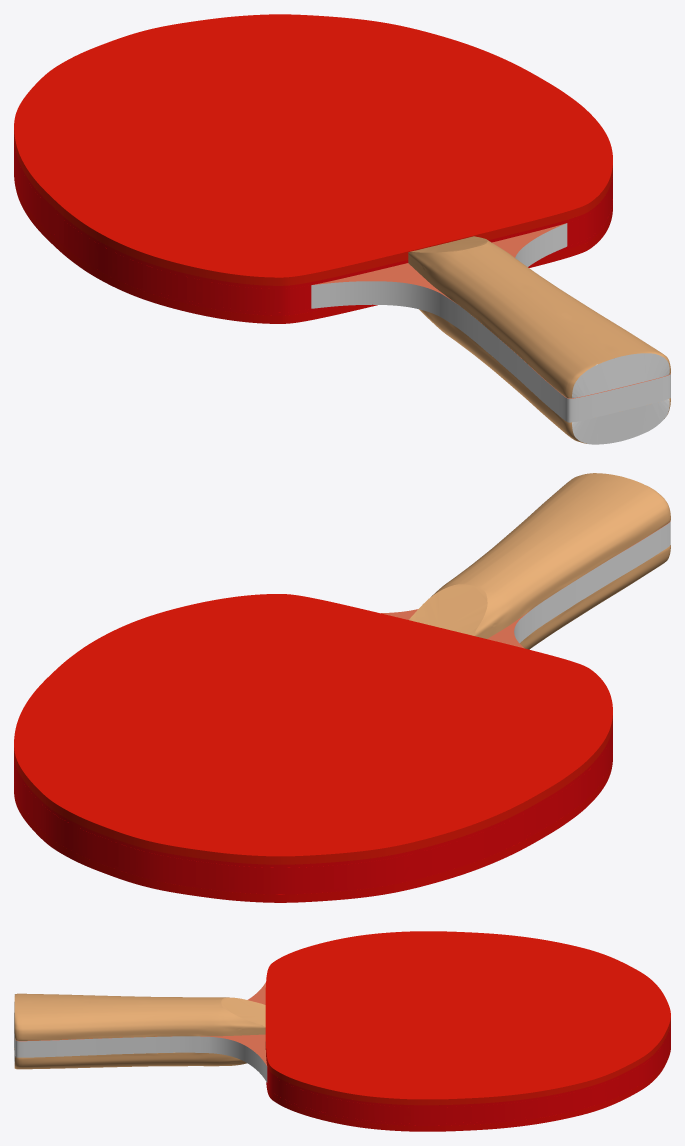
The model's file is racket-1.glb.
3 renders of one model, top to bottom at view 1: azimuth 30°, elevation 25°; view 2: azimuth 150°, elevation 25°; view 3: azimuth 270°, elevation 25°, orthographic. The views are drawn at different scales.
Visible parts, largest first — view 1: head-layer_red2.000_Plane.002, handle1.001_Plane.009, handle.001_Plane.029, head-wood.000_Plane.001, handle1.000_Plane.022, head-layer_red2.001_Plane.023, head-layer_red2.002_Plane.024, head-layer_red2.003_Plane.025; view 2: head-layer_red2.000_Plane.002, handle1.001_Plane.009, head-wood.000_Plane.001, head-layer_red2.001_Plane.023, handle.001_Plane.029, head-layer_red2.002_Plane.024, head-layer_red2.003_Plane.025, handle1.000_Plane.022; view 3: head-layer_red2.000_Plane.002, handle1.001_Plane.009, head-wood.000_Plane.001, handle.001_Plane.029, handle1.000_Plane.022, head-layer_red2.001_Plane.023, head-layer_red2.003_Plane.025, head-layer_red2.002_Plane.024.
Boxes of the visible parts, x1,y1,x2,y2 form: head-layer_red2.000_Plane.002: (14,14,612,285); handle1.001_Plane.009: (408,236,670,398); handle.001_Plane.029: (311,223,670,422); head-wood.000_Plane.001: (14,142,612,312); handle1.000_Plane.022: (419,309,670,444); head-layer_red2.001_Plane.023: (14,169,612,323); head-layer_red2.002_Plane.024: (14,139,612,288); head-layer_red2.003_Plane.025: (14,167,612,315); head-layer_red2.000_Plane.002: (14,594,612,864); handle1.001_Plane.009: (409,473,670,638); head-wood.000_Plane.001: (14,727,612,891); head-layer_red2.001_Plane.023: (14,754,612,902); handle.001_Plane.029: (381,521,670,648); head-layer_red2.002_Plane.024: (14,724,612,867); head-layer_red2.003_Plane.025: (14,750,612,894); handle1.000_Plane.022: (520,545,670,649); head-layer_red2.000_Plane.002: (265,931,670,1105); handle1.001_Plane.009: (14,993,265,1040); head-wood.000_Plane.001: (267,1026,670,1123); handle.001_Plane.029: (14,982,267,1082); handle1.000_Plane.022: (14,1048,246,1069); head-layer_red2.001_Plane.023: (266,1044,670,1131); head-layer_red2.003_Plane.025: (267,1042,670,1125); head-layer_red2.002_Plane.024: (265,1023,670,1107).
Bounding box in the file's own units: 0.1537 × 0.0252 × 0.2541.
